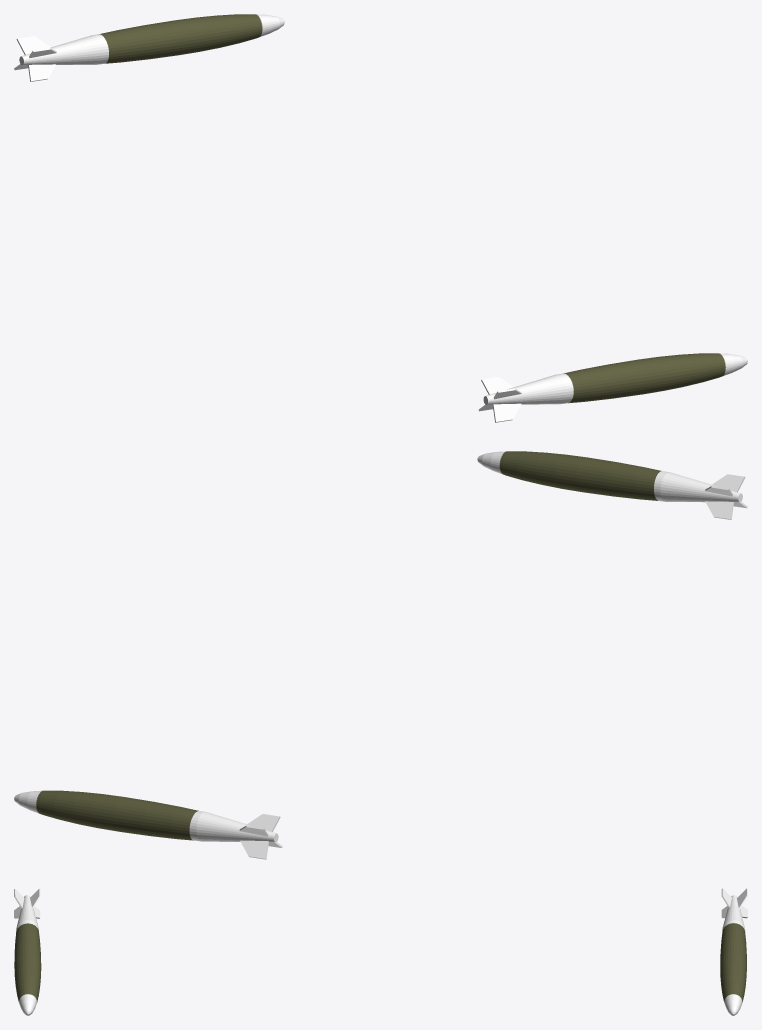
The picture shows the model from 3 angles, top to bottom: view 1: azimuth 30°, elevation 25°; view 2: azimuth 150°, elevation 25°; view 3: azimuth 270°, elevation 25°; orthographic projection. The views are drawn at different scales.
Parts seen in each view (by area): view 1: 円柱.008, 円柱.006; view 2: 円柱.008, 円柱.006; view 3: 円柱.006, 円柱.008.
Boxes of the visible parts, left/top/right/bottom form: 円柱.008: left=478, top=353, right=747, bottom=422; 円柱.006: left=14, top=14, right=284, bottom=81; 円柱.008: left=477, top=451, right=747, bottom=519; 円柱.006: left=14, top=790, right=282, bottom=859; 円柱.006: left=720, top=888, right=747, bottom=1015; 円柱.008: left=14, top=888, right=41, bottom=1015.
Bounding box in the file's own units: 2.41 × 0.4243 × 7.65.
Materials: 3 (1 with a texture image).
